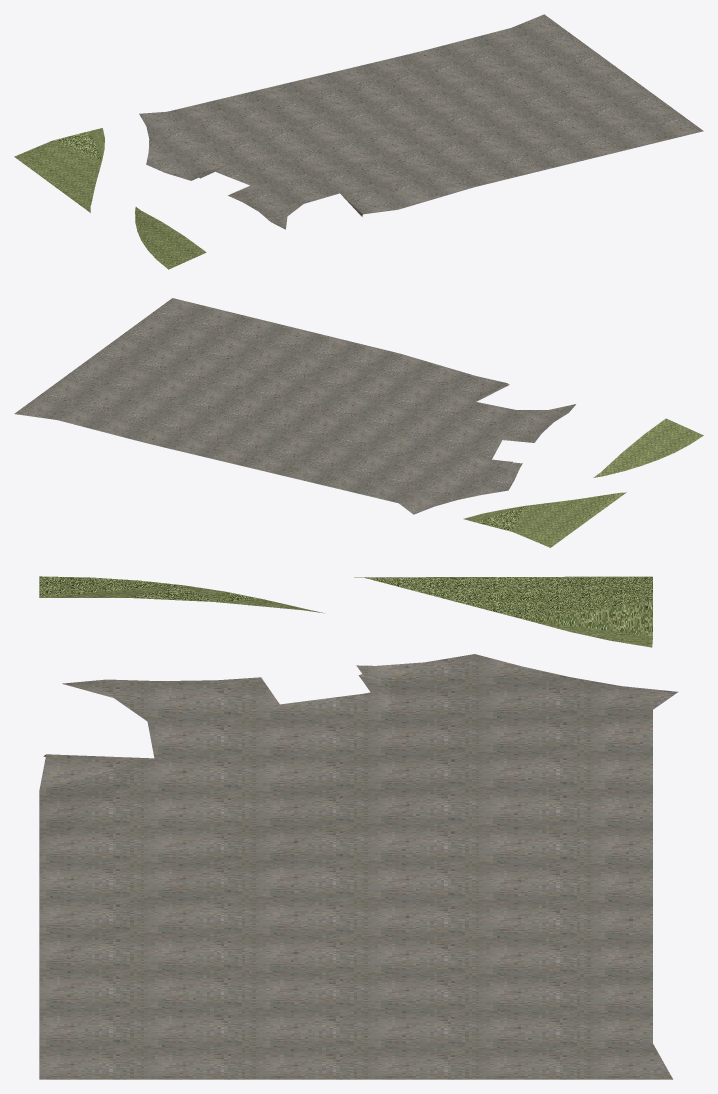
File: lodsairportland03.obj
3 renders of one model, top to bottom at view 1: azimuth 30°, elevation 25°; view 2: azimuth 150°, elevation 25°; view 3: azimuth 270°, elevation 25°, orthographic. The views are drawn at different scales.
Parts seen in each view (by area): view 1: lodSairportland03; view 2: lodSairportland03; view 3: lodSairportland03.
Boxes of the visible parts, x1,y1,x2,y2 form: lodSairportland03: (14, 14, 703, 269); lodSairportland03: (14, 298, 703, 547); lodSairportland03: (39, 576, 677, 1079).
Size of the model in its own units: 280 by 4.16 by 146.
2 materials, 2 textured.
